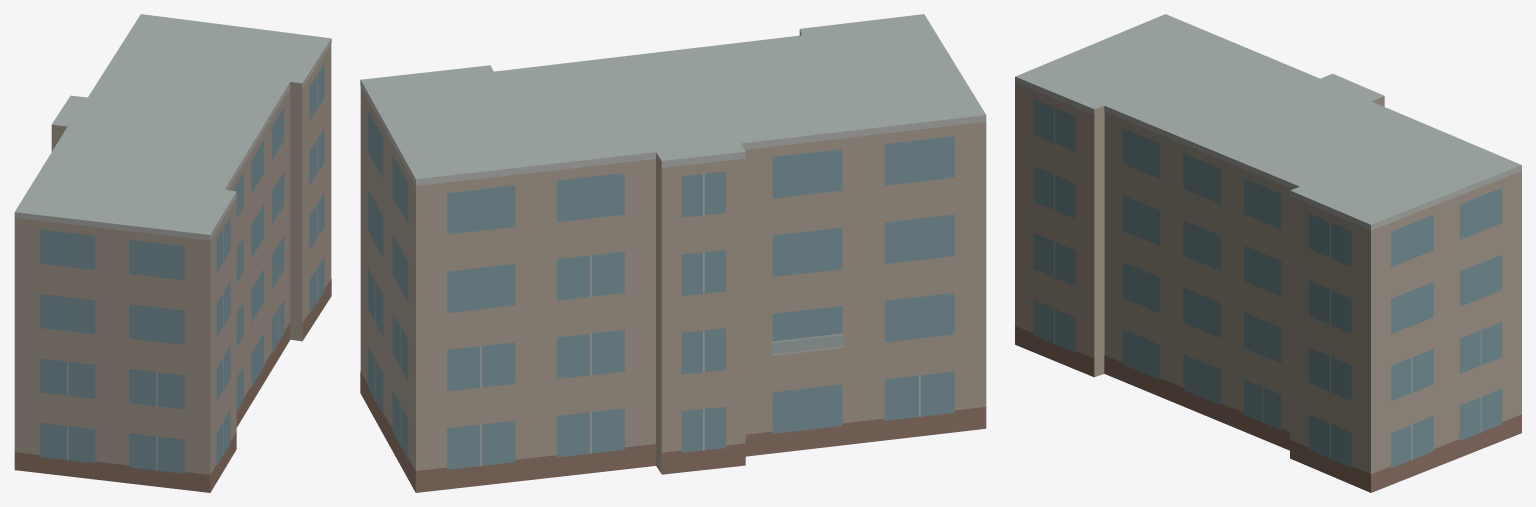
File: survey-upis-32726550.glb
3 renders of one model, left to right at view 1: azimuth 30°, elevation 25°; view 2: azimuth 150°, elevation 25°; view 3: azimuth 270°, elevation 25°, orthographic. The views are drawn at different scales.
Parts seen in each view (by area): view 1: survey-upis-32726550.tmp; view 2: survey-upis-32726550.tmp; view 3: survey-upis-32726550.tmp.
Boxes of the visible parts, <box> form: survey-upis-32726550.tmp: <box>14,14,331,492</box>; survey-upis-32726550.tmp: <box>360,14,986,492</box>; survey-upis-32726550.tmp: <box>1015,14,1521,492</box>.
Size of the model in its own units: 19.07 by 11.3 by 19.37.
